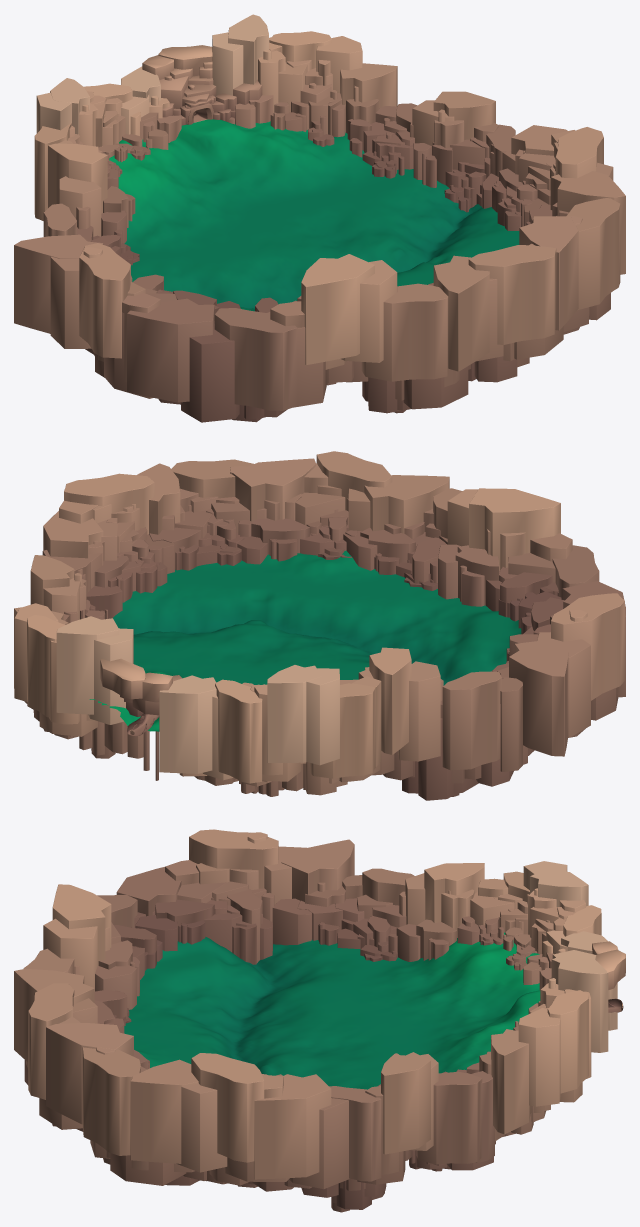
File: overworld_environment.glb
3 views of the same model, one above another, from view 1: azimuth 30°, elevation 25°; view 2: azimuth 150°, elevation 25°; view 3: azimuth 270°, elevation 25° (orthographic). The views are drawn at different scales.
Visible parts, largest first — view 1: Rocks-col, Floor-col, Rocks2-col; view 2: Rocks-col, Floor-col, Rocks2-col; view 3: Rocks-col, Floor-col, Rocks2-col.
Boxes of the visible parts, x1,y1,x2,y2 form: Rocks-col: (14, 14, 625, 422); Floor-col: (109, 119, 519, 311); Rocks2-col: (142, 45, 262, 125); Rocks-col: (14, 451, 625, 800); Floor-col: (89, 550, 521, 731); Rocks2-col: (100, 658, 182, 716); Rocks-col: (14, 829, 617, 1212); Floor-col: (124, 932, 540, 1089); Rocks2-col: (538, 941, 625, 1006).
Bounding box in the file's own units: 718 × 242 × 703.
Materials: 2 (2 with a texture image).
